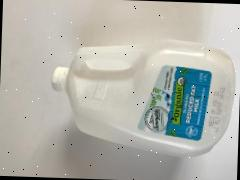plastic: (33, 21, 240, 180)
